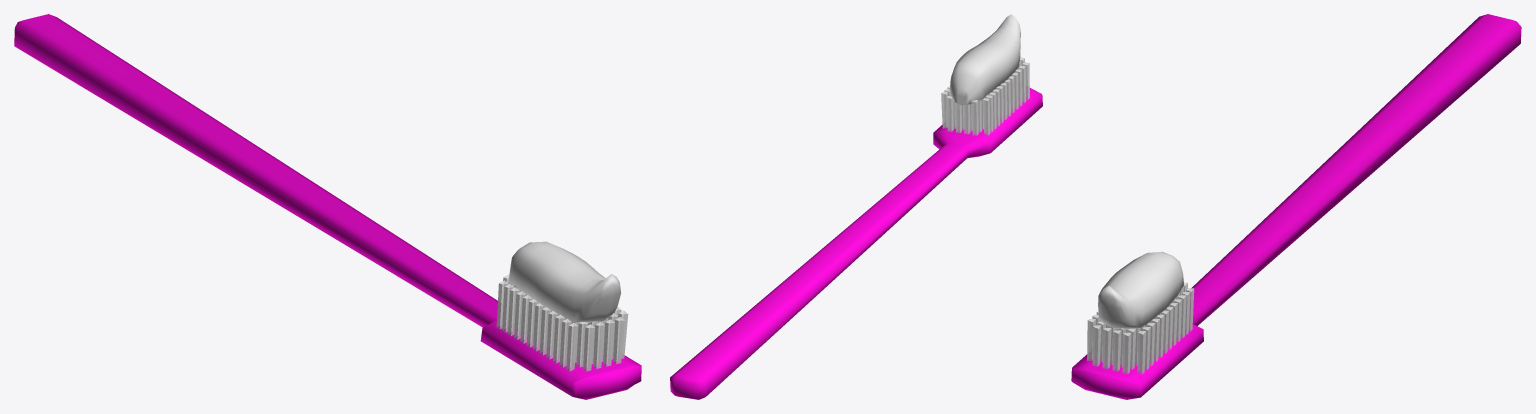
Rendered from toothbrush2.fbx.
3 renders of one model, left to right at view 1: azimuth 30°, elevation 25°; view 2: azimuth 150°, elevation 25°; view 3: azimuth 330°, elevation 25°, orthographic. The views are drawn at different scales.
Parts seen in each view (by area): view 1: toothbrush02, pCube7; view 2: toothbrush02, pCube7; view 3: toothbrush02, pCube7.
Boxes of the visible parts, x1,y1,x2,y2 form: toothbrush02: (14, 14, 641, 399); pCube7: (508, 241, 620, 323); toothbrush02: (670, 57, 1042, 399); pCube7: (949, 14, 1020, 105); toothbrush02: (1071, 14, 1521, 399); pCube7: (1098, 251, 1184, 329).
Bounding box in the file's own units: 28.5 × 25.51 × 194.
